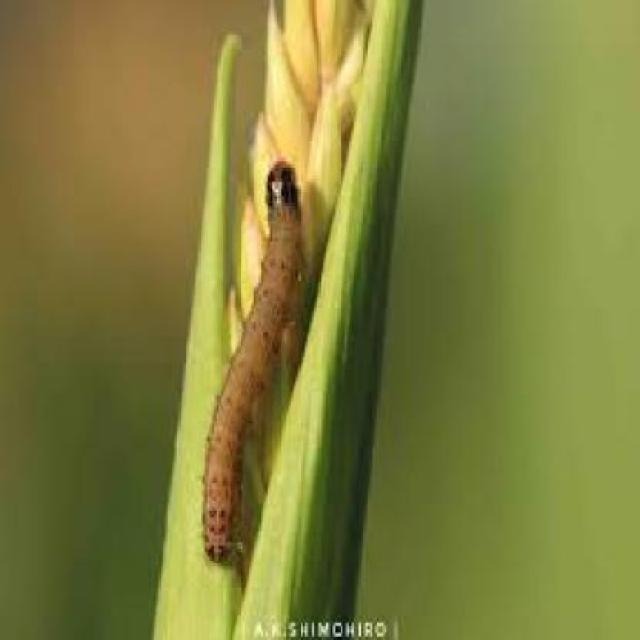Plaga: (195, 137, 321, 582)
